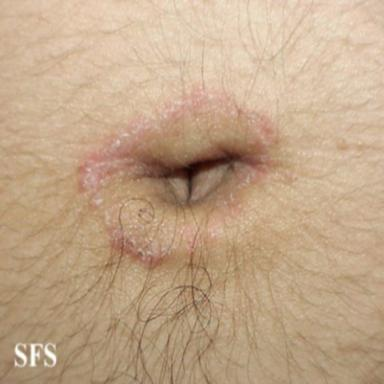Tinea-Corporis: (76, 88, 276, 271)
